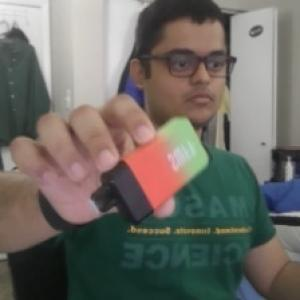Swift-E-Ciggirate: (90, 111, 210, 228)
